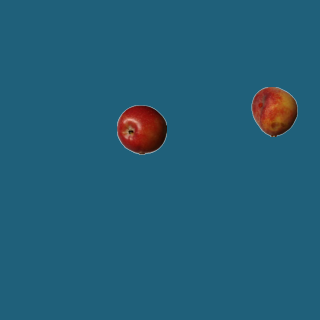Apple Braeburn: (116, 104, 166, 154)
Peach: (249, 86, 299, 136)
